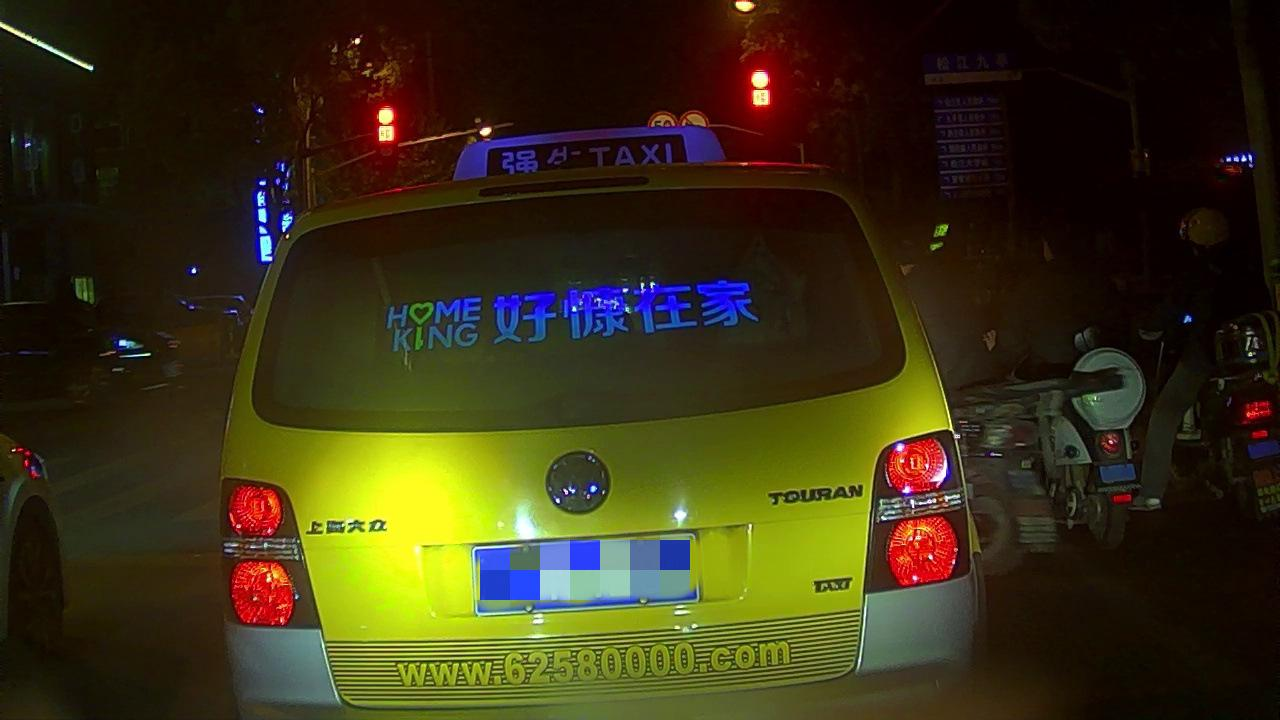traffic_light: (375, 104, 398, 159), (748, 65, 772, 115)
